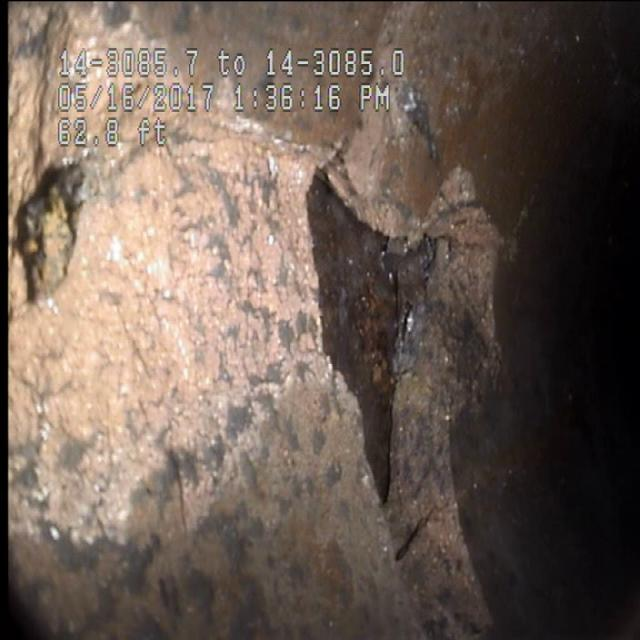Fracture: (289, 148, 462, 520)
